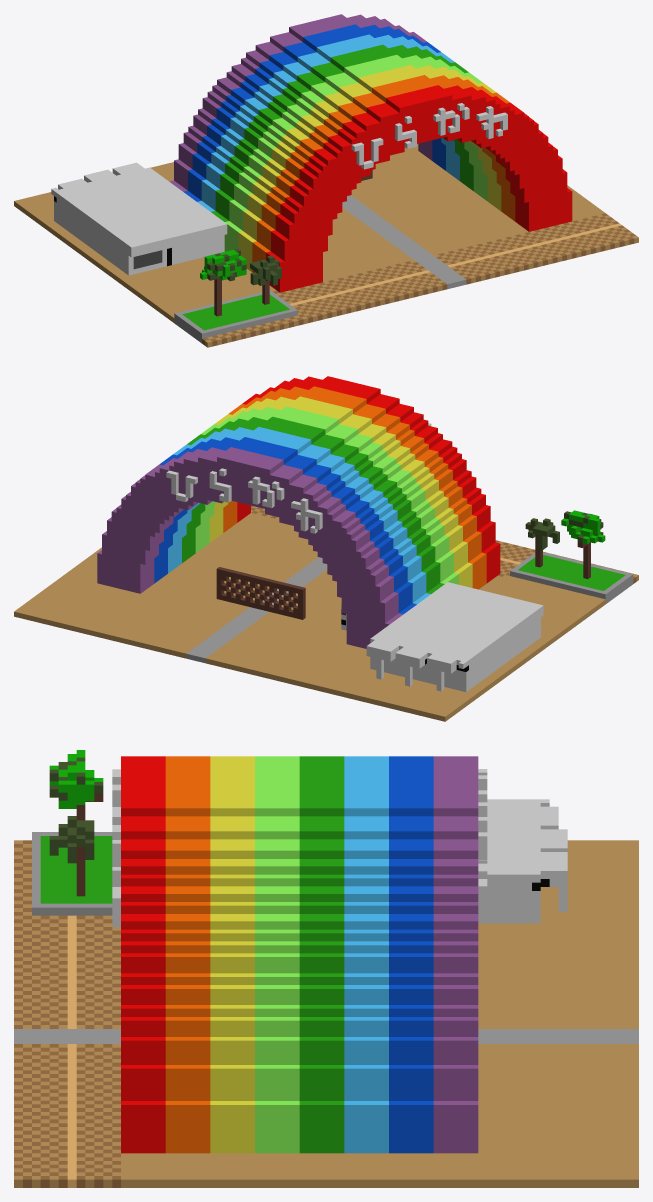
Rendered from hirakawadoubutsuen.glb.
3 renders of one model, top to bottom at view 1: azimuth 30°, elevation 25°; view 2: azimuth 150°, elevation 25°; view 3: azimuth 270°, elevation 25°, orthographic. The views are drawn at different scales.
Parts seen in each view (by area): view 1: Untitled; view 2: Untitled; view 3: Untitled.
Boxes of the visible parts, <box> form: Untitled: <box>14,14,638,347</box>; Untitled: <box>14,376,638,721</box>; Untitled: <box>14,750,638,1187</box>.
Bounding box in the file's own units: 1.8 × 0.64 × 1.4.
Materials: 1 (1 with a texture image).
